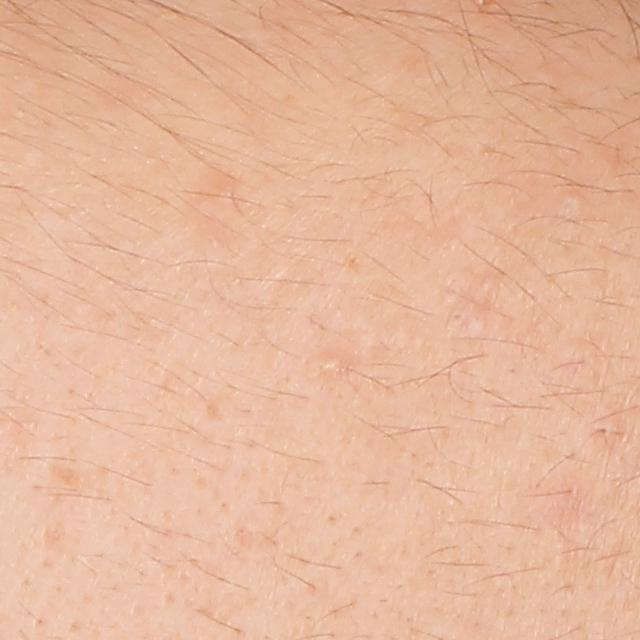comedo: (315, 354, 343, 380), (555, 189, 583, 212)
